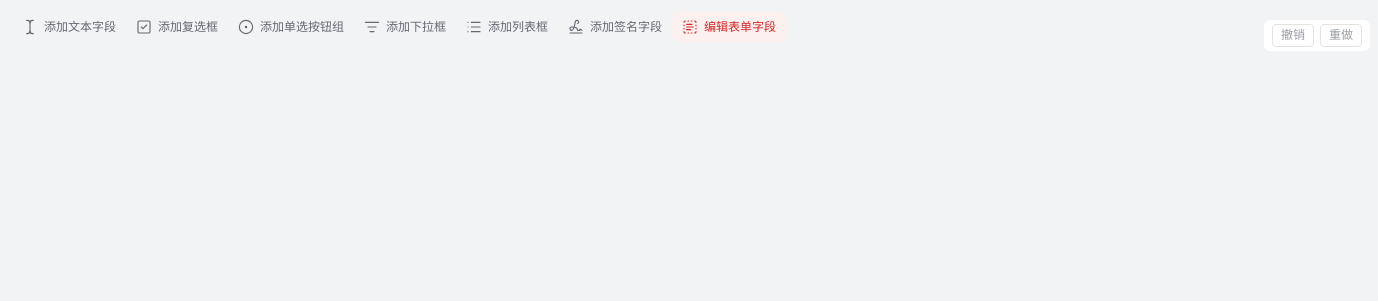
it: FormLayer › places a text field by dragging and opens its property panel
Click the button "添加文本字段".
click(69, 27)  # box [12, 12, 126, 42]
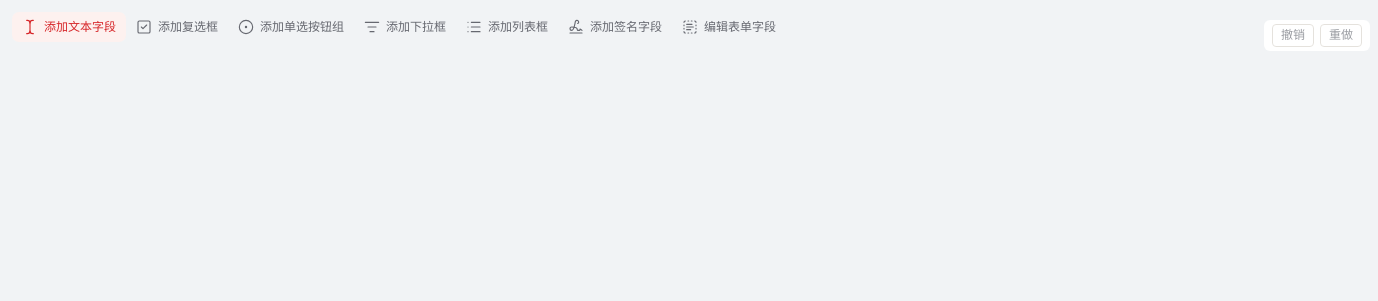
Result: the button "添加文本字段" is pressed at [12, 12, 126, 42]
Press the mouse on the element with class "form-layer" at (691, 31), box [12, 12, 1370, 51]
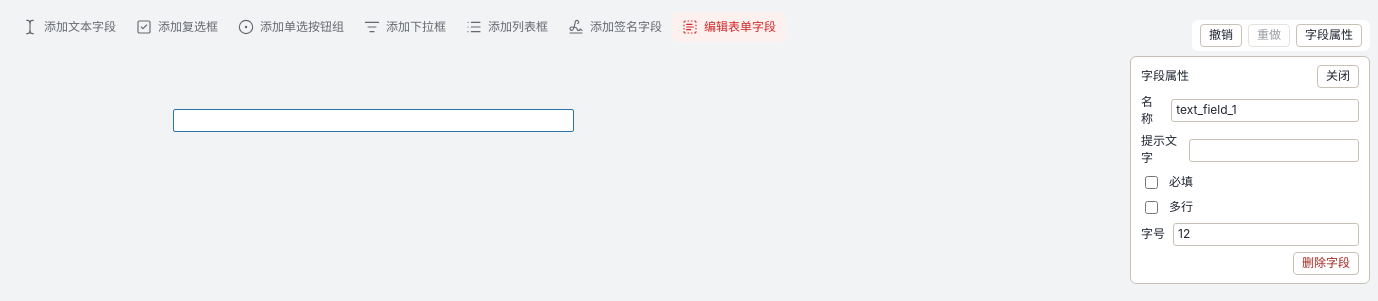
Result: the checkbox named "必填字段" is not checked at [1145, 176, 1158, 189]
Result: the field named "字段名称" holds "text_field_1" at [1171, 99, 1359, 122]
Result: the field named "字段提示" is empty at [1189, 139, 1359, 162]
